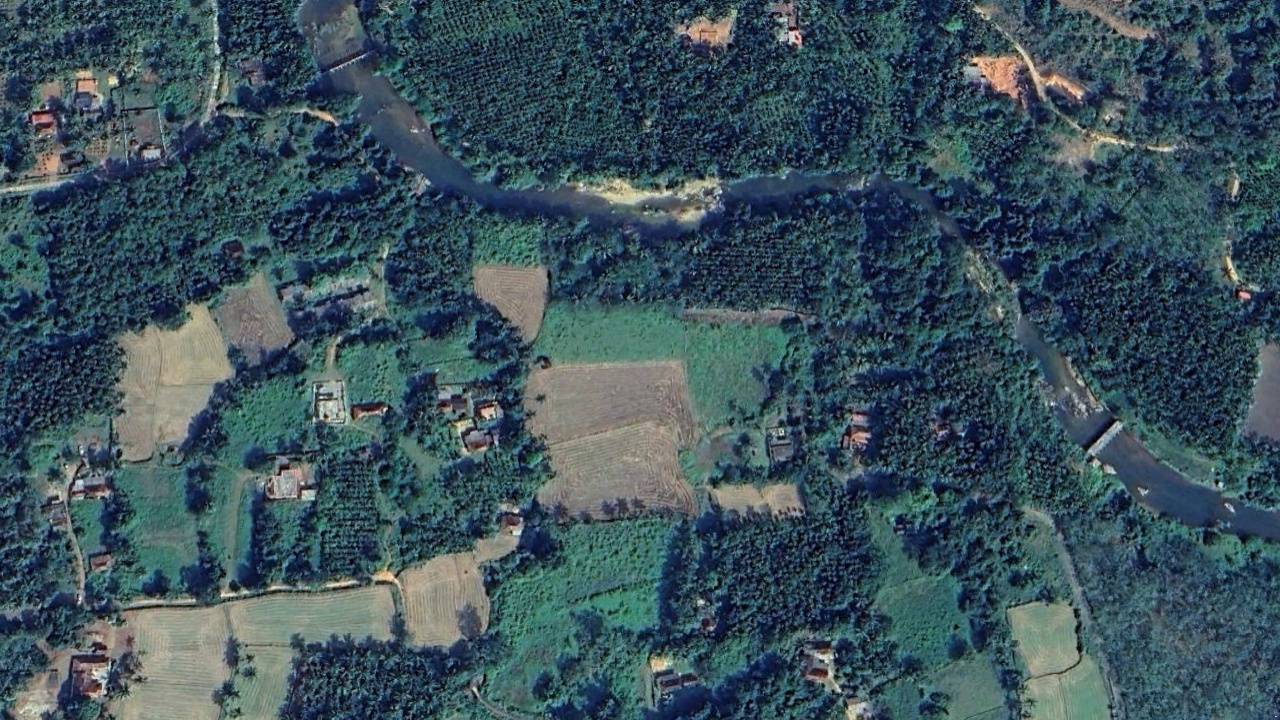arecanut: (380, 1, 622, 162), (685, 216, 828, 307)
